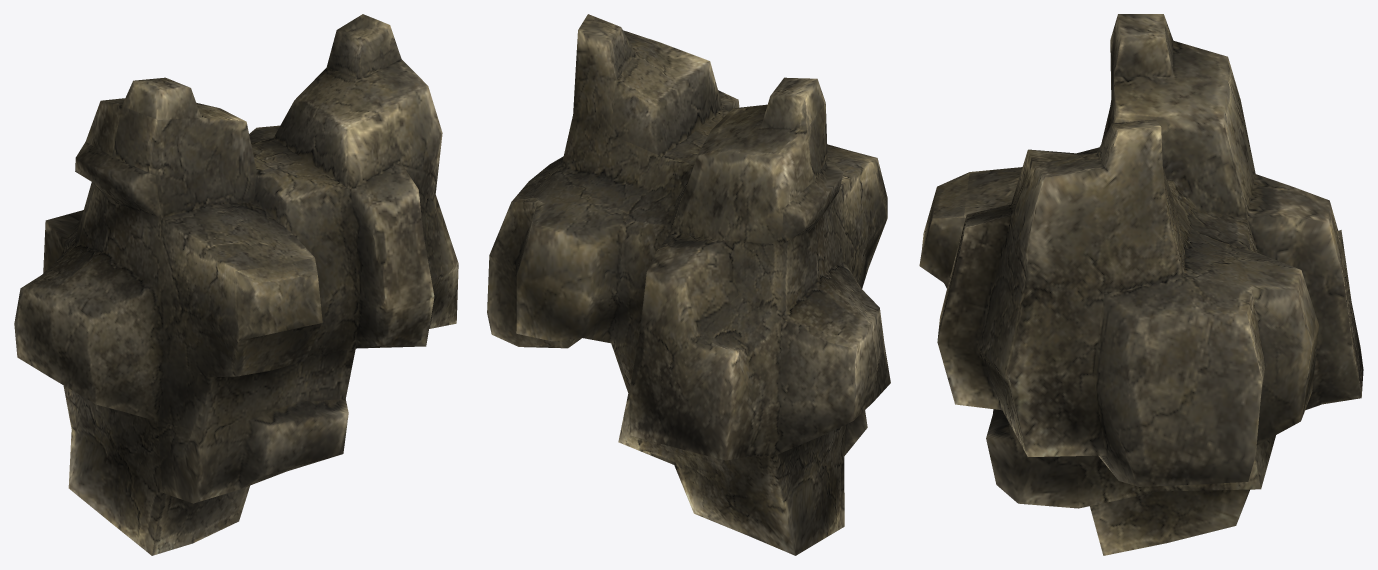
Rendered from roca_3.fbx.
The picture shows the model from 3 angles, left to right: view 1: azimuth 30°, elevation 25°; view 2: azimuth 150°, elevation 25°; view 3: azimuth 270°, elevation 25°; orthographic projection. The views are drawn at different scales.
Visible parts, largest first — view 1: roca_3; view 2: roca_3; view 3: roca_3.
Boxes of the visible parts, x1,y1,x2,y2 form: roca_3: [14, 14, 458, 555]; roca_3: [487, 14, 890, 555]; roca_3: [919, 14, 1363, 555].
Bounding box in the file's own units: 1.03 × 1.22 × 0.9364.
